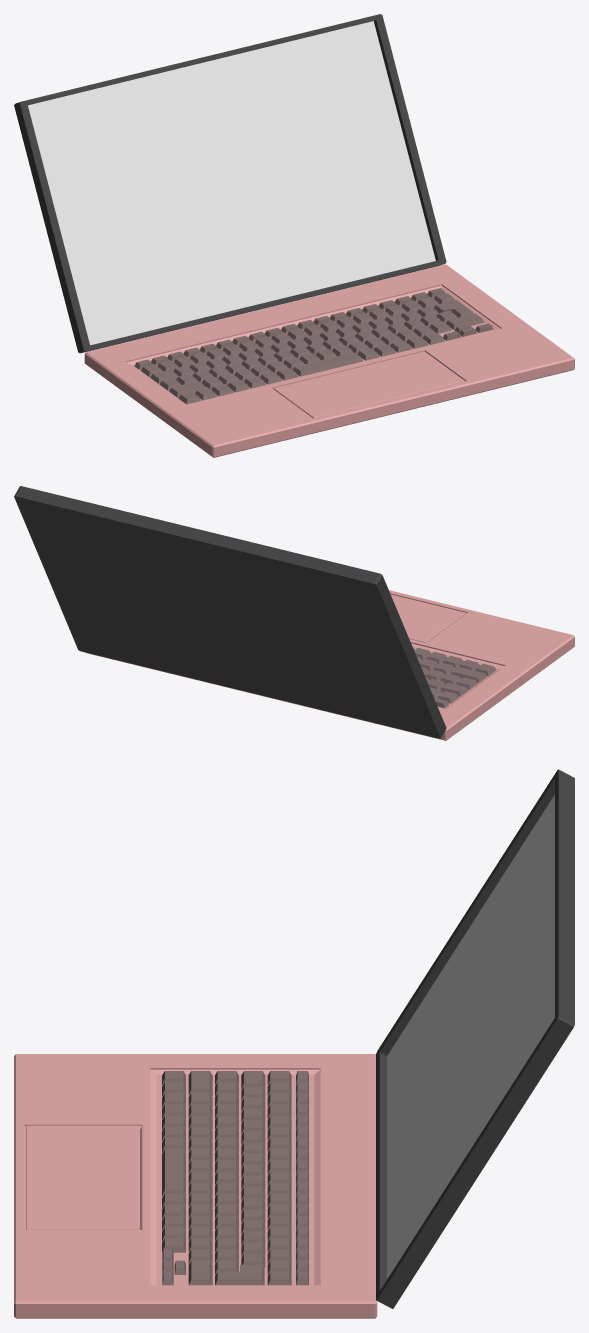
The model's file is パソコン 軽量版(仮)(仮).fbx.
3 views of the same model, one above another, from view 1: azimuth 30°, elevation 25°; view 2: azimuth 150°, elevation 25°; view 3: azimuth 270°, elevation 25° (orthographic). The views are drawn at different scales.
Parts seen in each view (by area): view 1: Cube.001, Cube, Cube.003; view 2: Cube.001, Cube, Cube.003; view 3: Cube, Cube.001, Cube.003.
Boxes of the visible parts, left/top/right/bottom form: Cube.001: left=14, top=14, right=446, bottom=353; Cube: left=84, top=264, right=574, bottom=457; Cube.003: left=134, top=288, right=493, bottom=404; Cube.001: left=14, top=486, right=446, bottom=738; Cube: left=86, top=590, right=574, bottom=740; Cube.003: left=412, top=646, right=496, bottom=708; Cube: left=14, top=1054, right=377, bottom=1318; Cube.001: left=376, top=769, right=574, bottom=1308; Cube.003: left=162, top=1071, right=308, bottom=1285.
Bounding box in the file's own units: 267 × 151 × 254.
